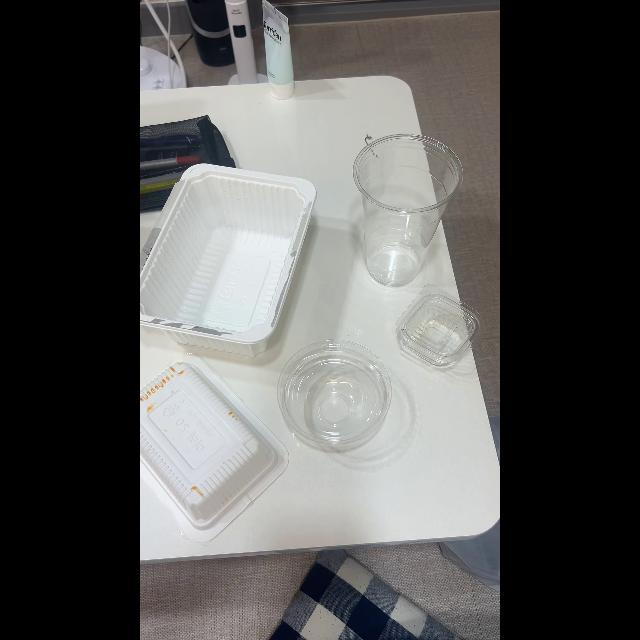clean: (140, 166, 312, 350), (348, 143, 452, 284), (284, 356, 386, 450), (392, 288, 476, 370)
dirty: (142, 364, 270, 520)
